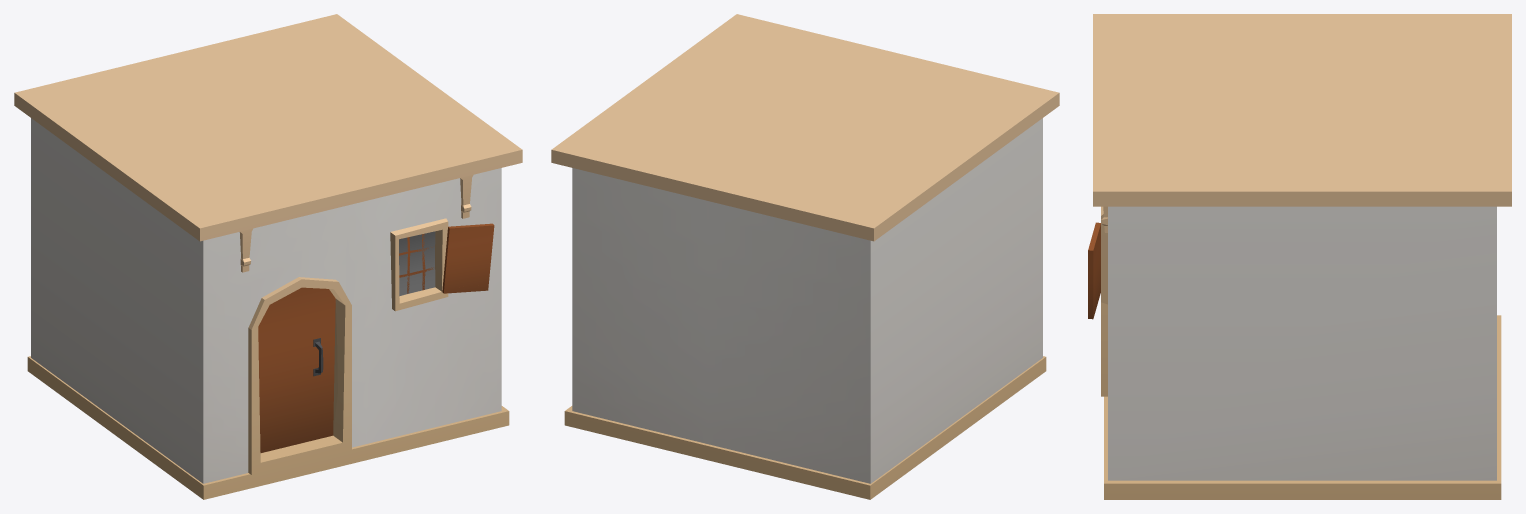
The model's file is Room 04.fbx.
The picture shows the model from 3 angles, left to right: view 1: azimuth 30°, elevation 25°; view 2: azimuth 150°, elevation 25°; view 3: azimuth 270°, elevation 25°; orthographic projection. The views are drawn at different scales.
Parts seen in each view (by area): view 1: Room 04 high, Room 04 low, Room 04; view 2: Room 04 high, Room 04 low; view 3: Room 04 high, Room 04 low.
Boxes of the visible parts, x1,y1,x2,y2 form: Room 04 high: [14, 14, 522, 499]; Room 04 low: [15, 26, 501, 483]; Room 04: [399, 231, 487, 295]; Room 04 high: [551, 14, 1059, 499]; Room 04 low: [556, 94, 1056, 482]; Room 04 high: [1088, 14, 1511, 499]; Room 04 low: [1094, 14, 1511, 478].
Bounding box in the file's own units: 4.06 × 3.33 × 4.09.
Materials: 1 (1 with a texture image).
